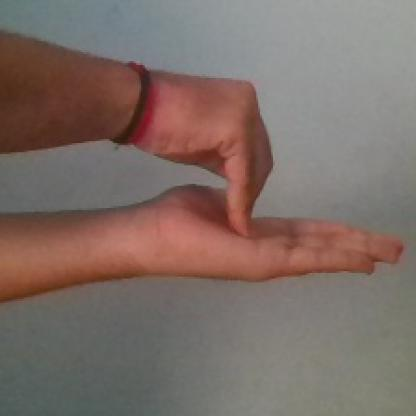Z: (132, 46, 403, 296)
